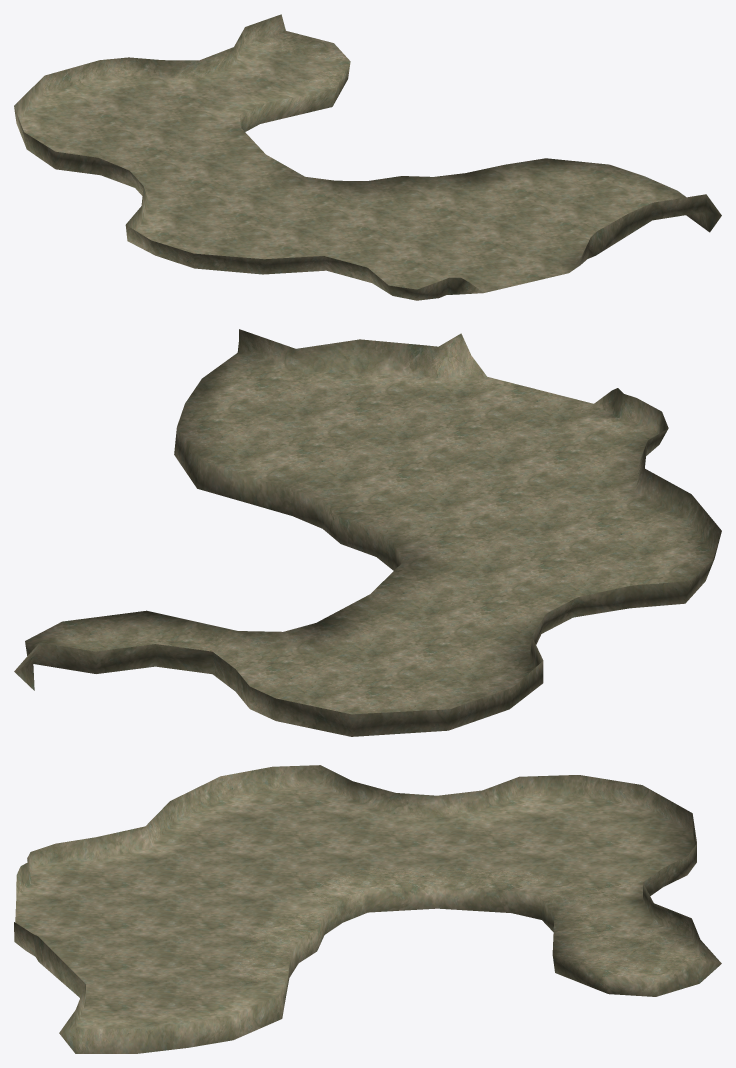
The model's file is OVERHILL_A_01_LINE203.fbx.
The picture shows the model from 3 angles, top to bottom: view 1: azimuth 30°, elevation 25°; view 2: azimuth 150°, elevation 25°; view 3: azimuth 270°, elevation 25°; orthographic projection. The views are drawn at different scales.
Parts seen in each view (by area): view 1: OVERHILL_A_01_LINE203; view 2: OVERHILL_A_01_LINE203; view 3: OVERHILL_A_01_LINE203.
Part boxes in pixels (x1,y1,x2,y2): OVERHILL_A_01_LINE203: (14,14,721,300); OVERHILL_A_01_LINE203: (14,329,721,736); OVERHILL_A_01_LINE203: (14,765,721,1053).
Bounding box in the file's own units: 121647 × 12332 × 146182.
Materials: 1 (1 with a texture image).
